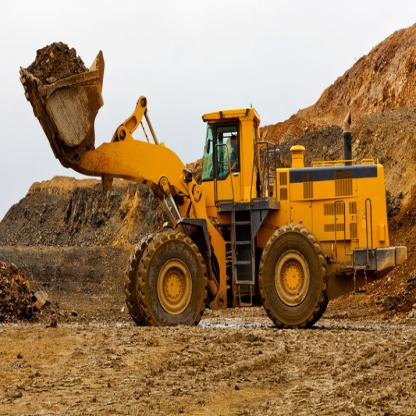bull_dozer/loader/grader: (16, 32, 412, 334)
